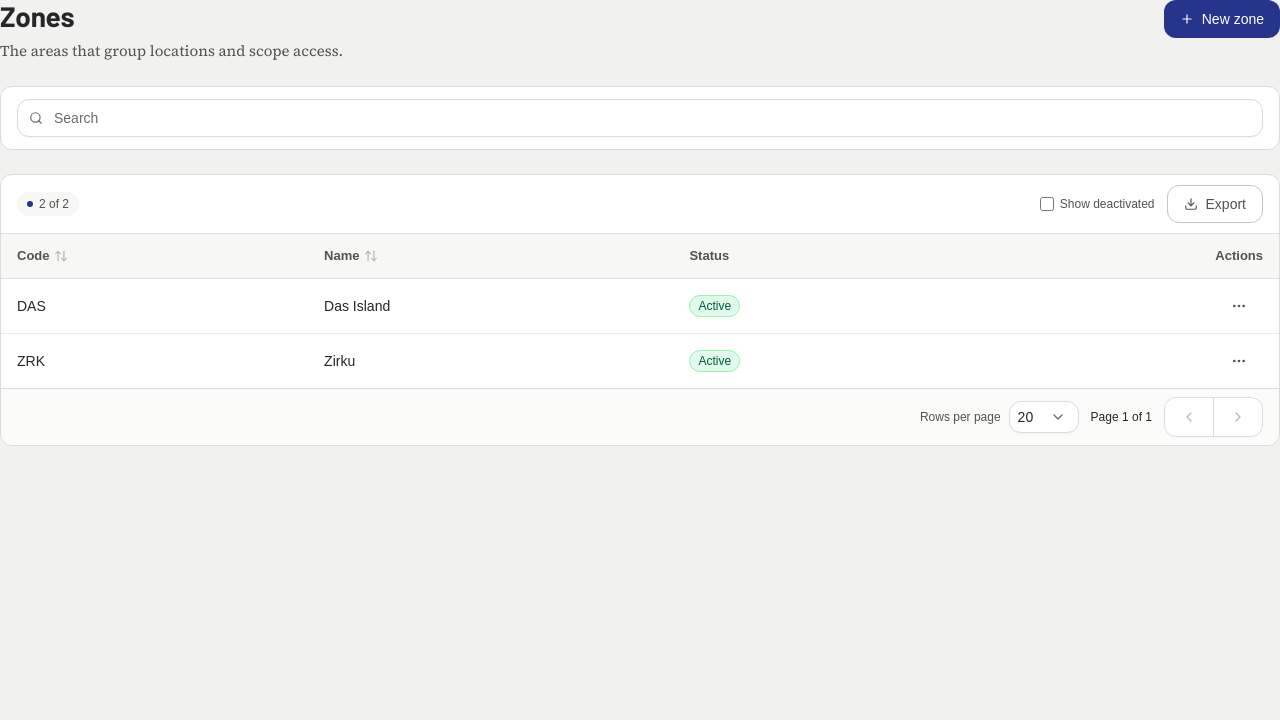
Test: PROMPT-4.2 the master page pattern (plan P1-02) › PROMPT-2.16 a version conflict stays in the dialog and reloads the list
Expected: the text "Das Island" is shown, [308,279,673,333]
Click the button named "Actions for DAS · Das Island": click(1239, 306) [1215,287,1263,325]
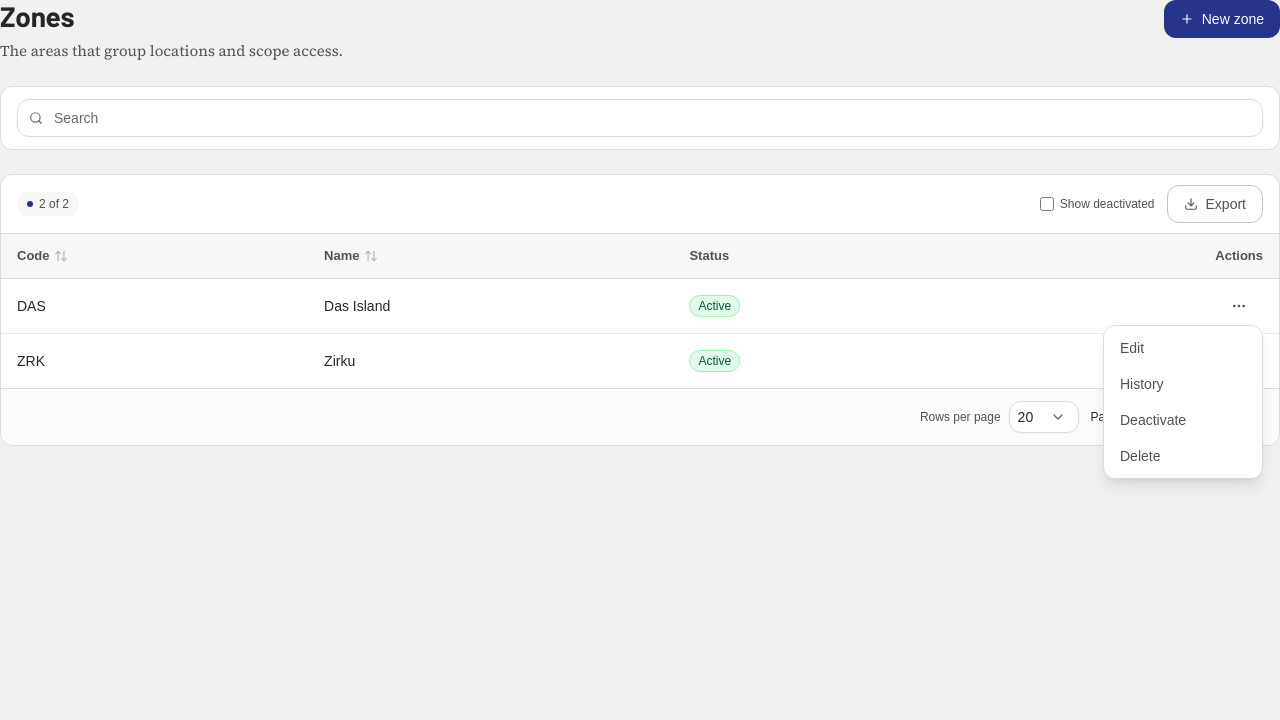
Click the menu item "Deactivate": click(1153, 420) [1120,412,1186,428]
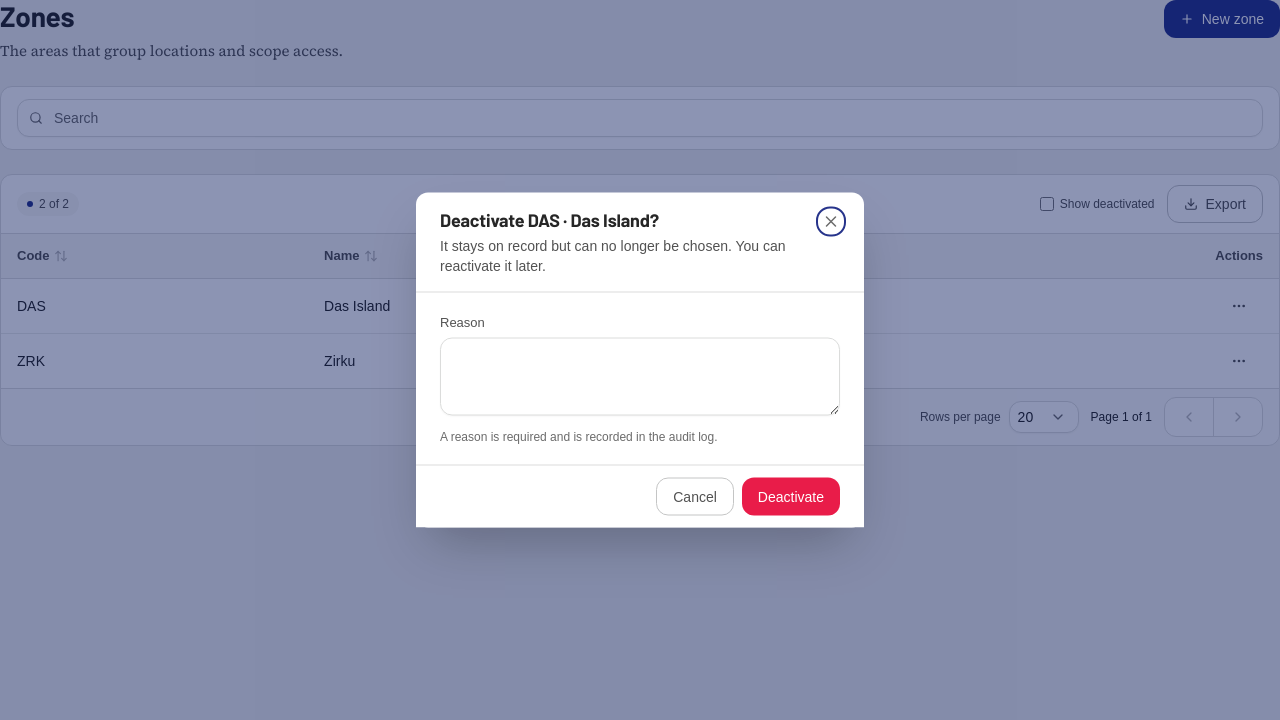
In the text box labelled "Reason": (640, 376) [440,338,840,416], type "Closed for works"
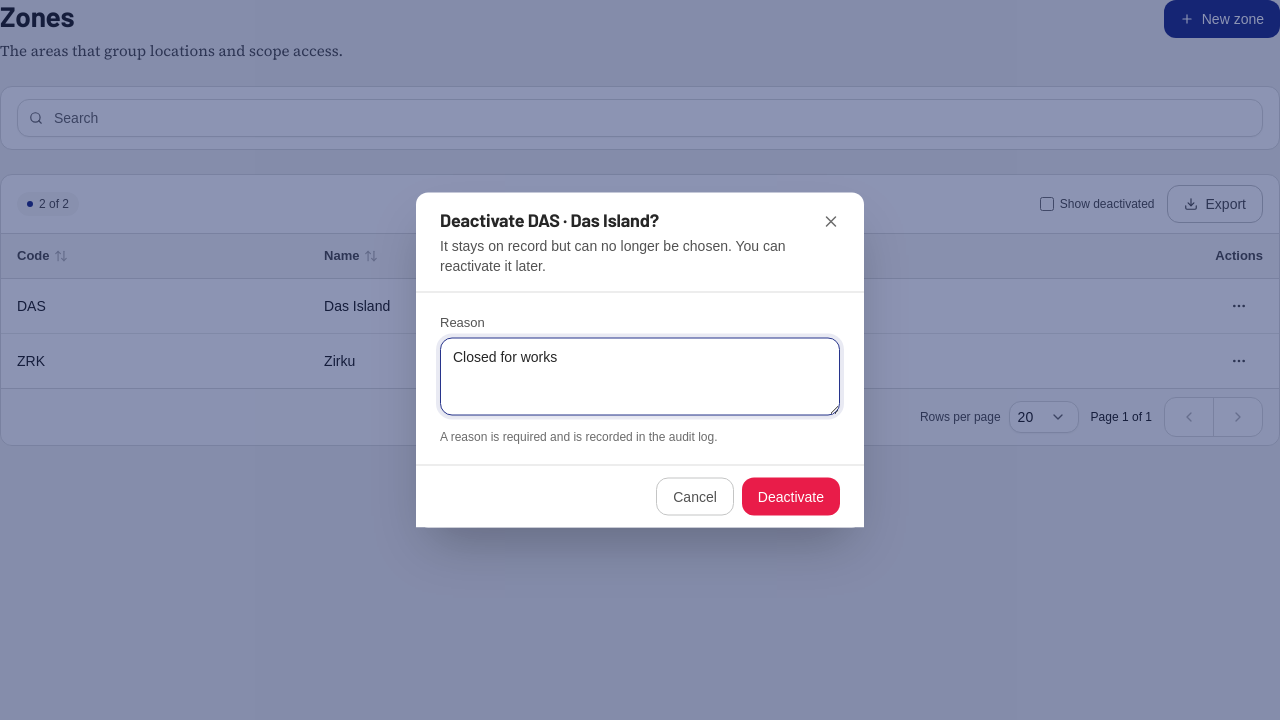
Click the button "Deactivate": click(791, 496) [742,478,840,516]
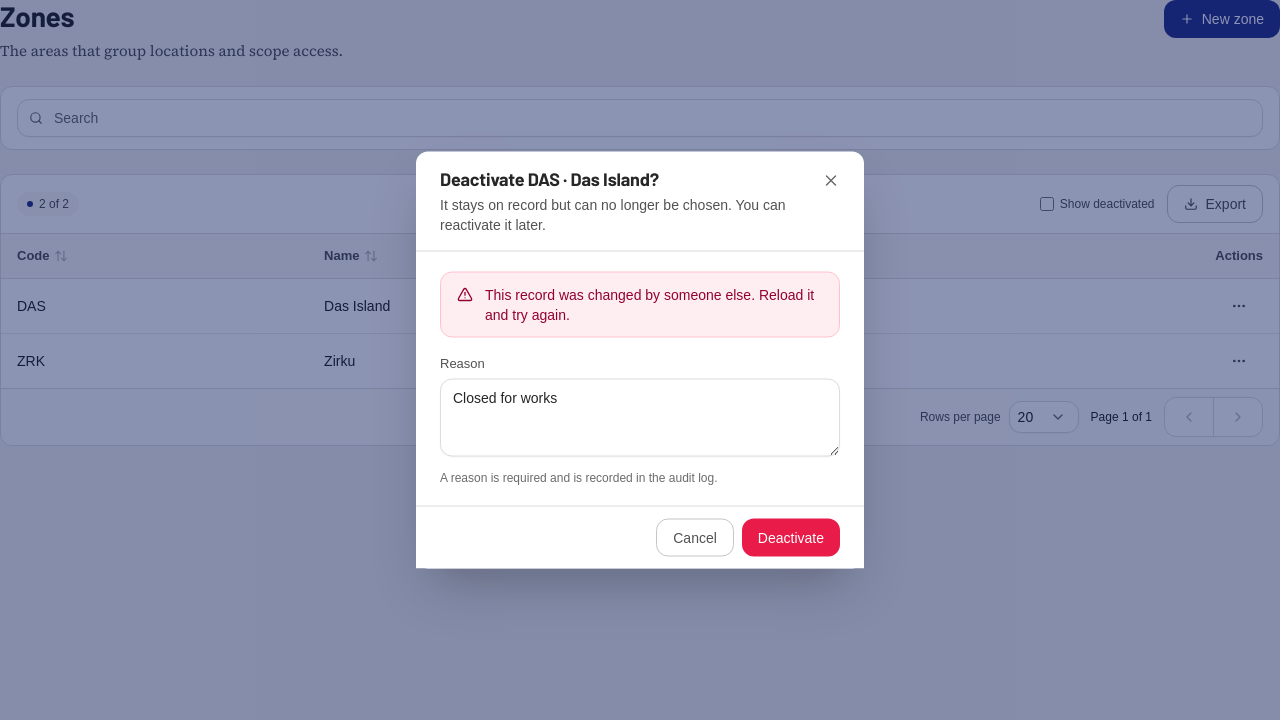
Expected: the text "This record was changed by someone else. Reload it and try again." is shown, [485,284,823,324]
